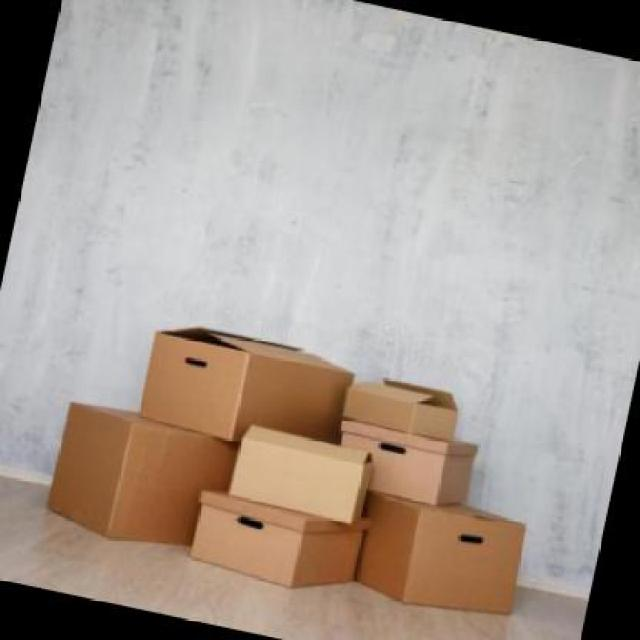box: (128, 313, 344, 465), (41, 396, 233, 567), (351, 490, 538, 624), (182, 492, 368, 620), (221, 418, 385, 524), (326, 414, 499, 508), (344, 362, 470, 436)
